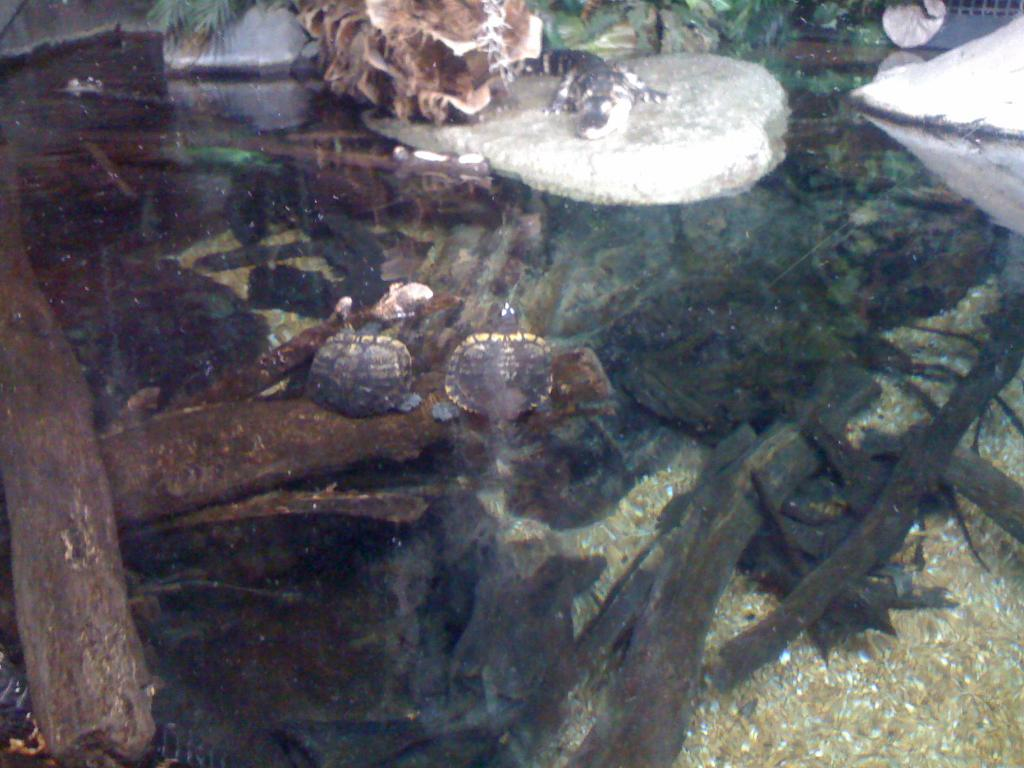Sea turtles: (432, 293, 554, 421), (302, 312, 420, 417)
